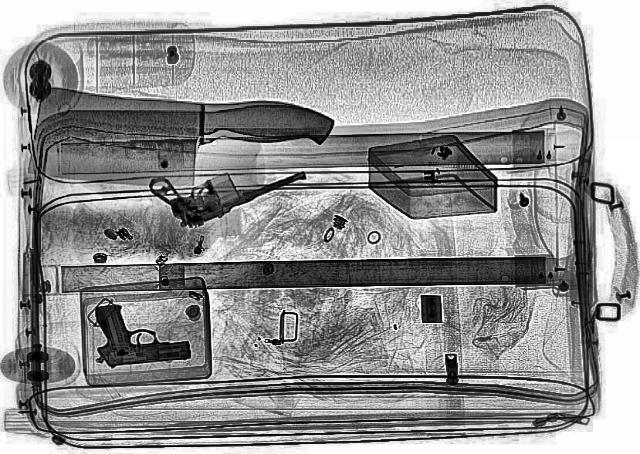Gun: (144, 133, 322, 231), (80, 295, 194, 369)
Knife: (26, 79, 338, 170), (27, 102, 336, 184)
